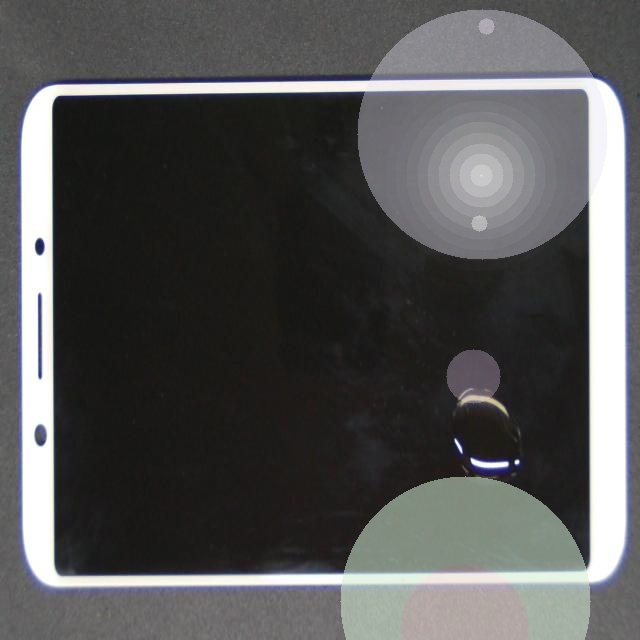oil: (276, 249, 640, 640)
